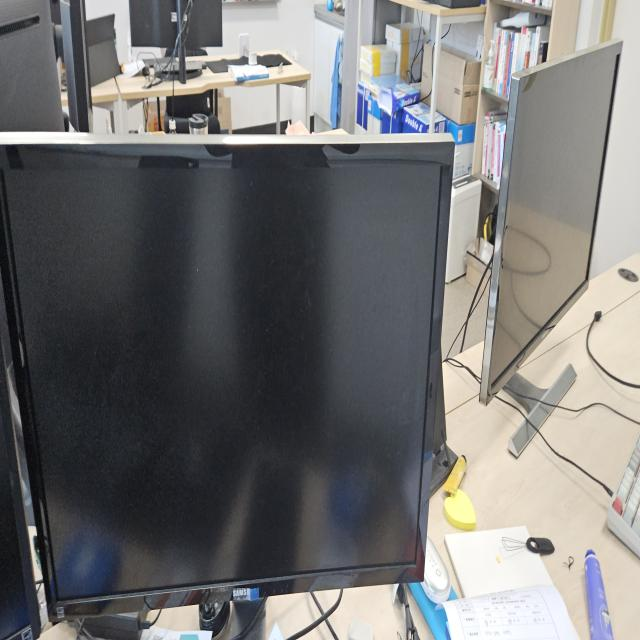Monitor: (2, 124, 458, 631)
